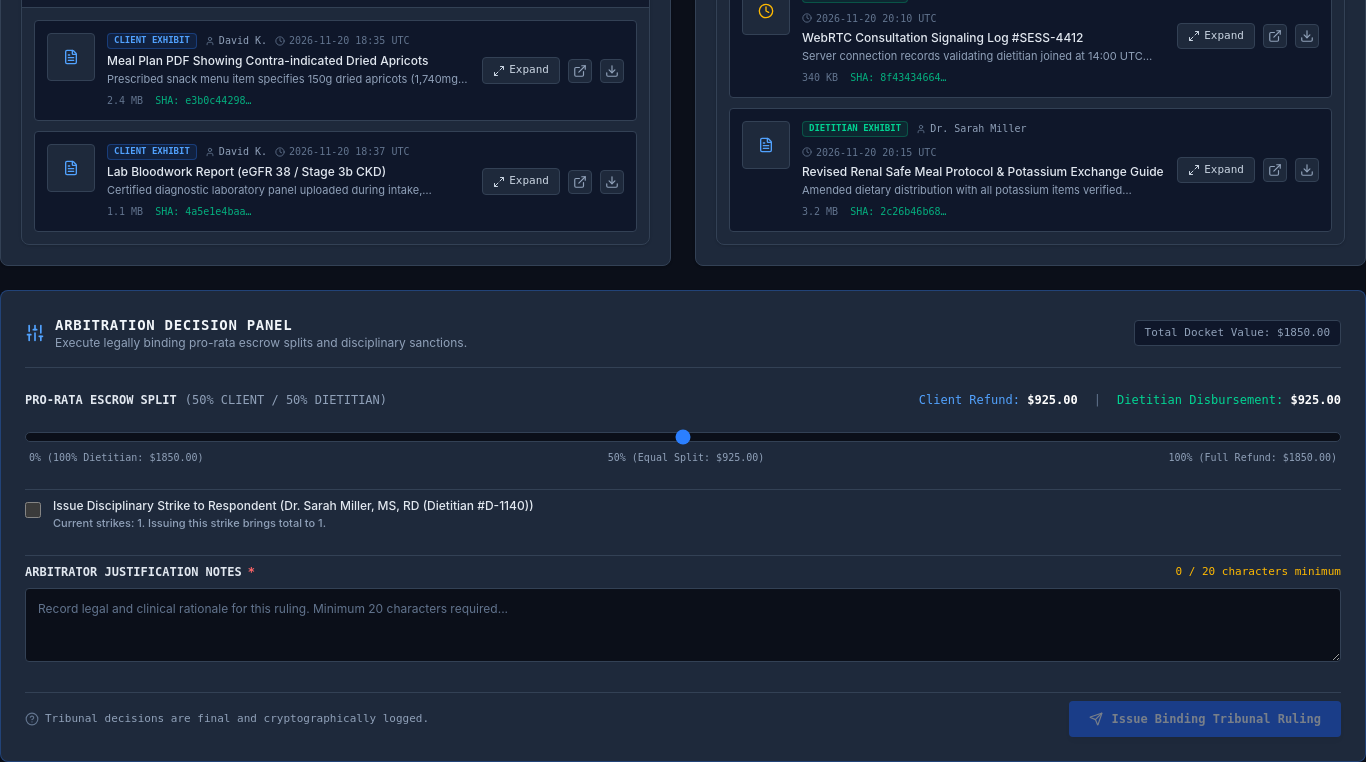
Arbitration Escrow Calculation & Floating Point Drift Check › calculates odd penny values without floating point precision issues
(page scrolled)
Set the slider with test id "escrow-slider" to "37" at x=514, y=437, box [25,432,1341,442]
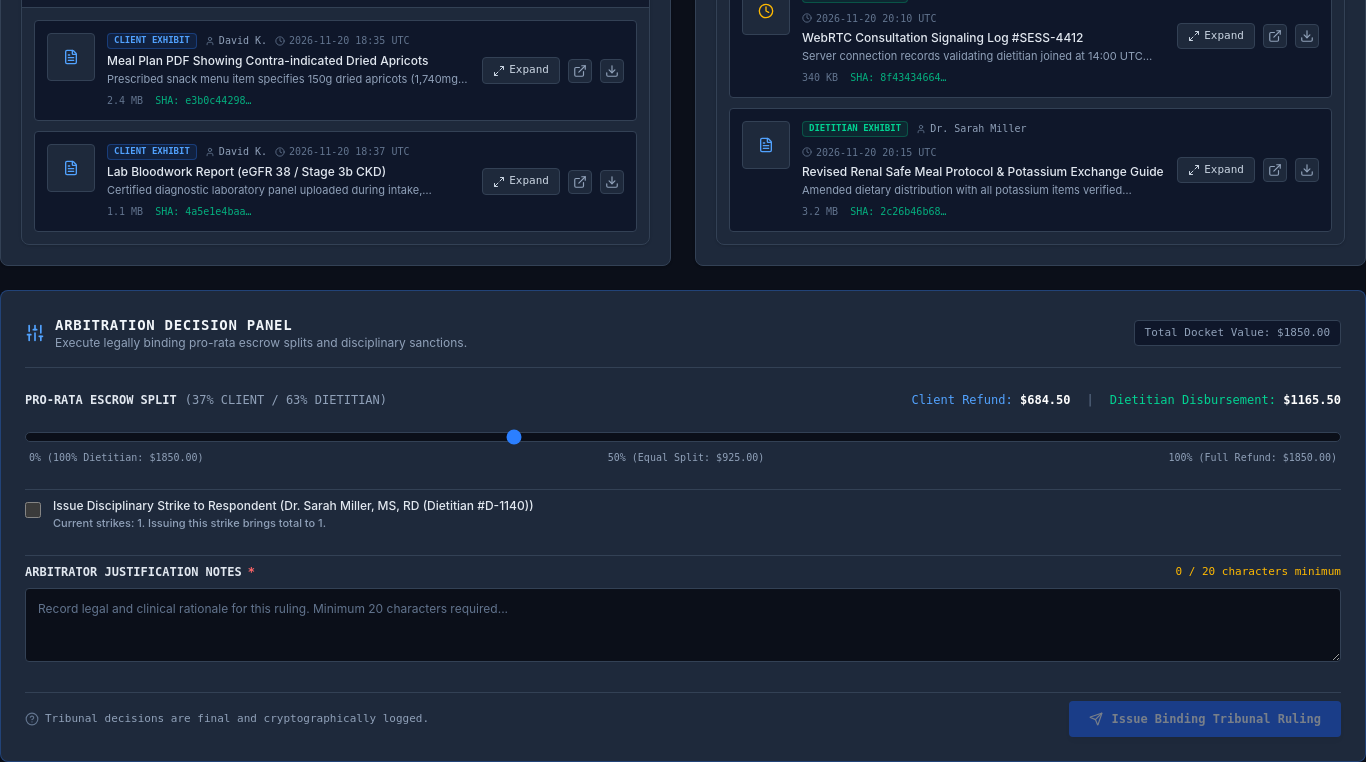
Check: the text with test id "client-refund-amount" reads "$684.50", box [1020,393,1071,407]
Check: the text with test id "dietitian-payout-amount" reads "$1165.50", box [1283,393,1341,407]
